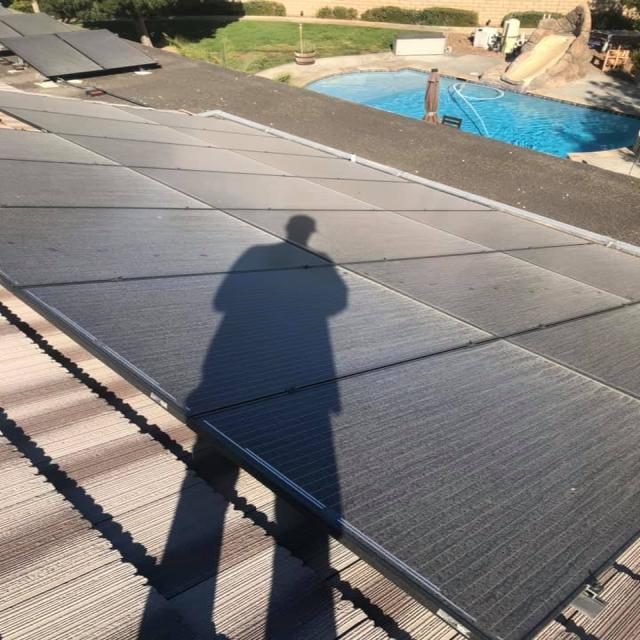dust-solar-panel: (0, 89, 640, 640)
